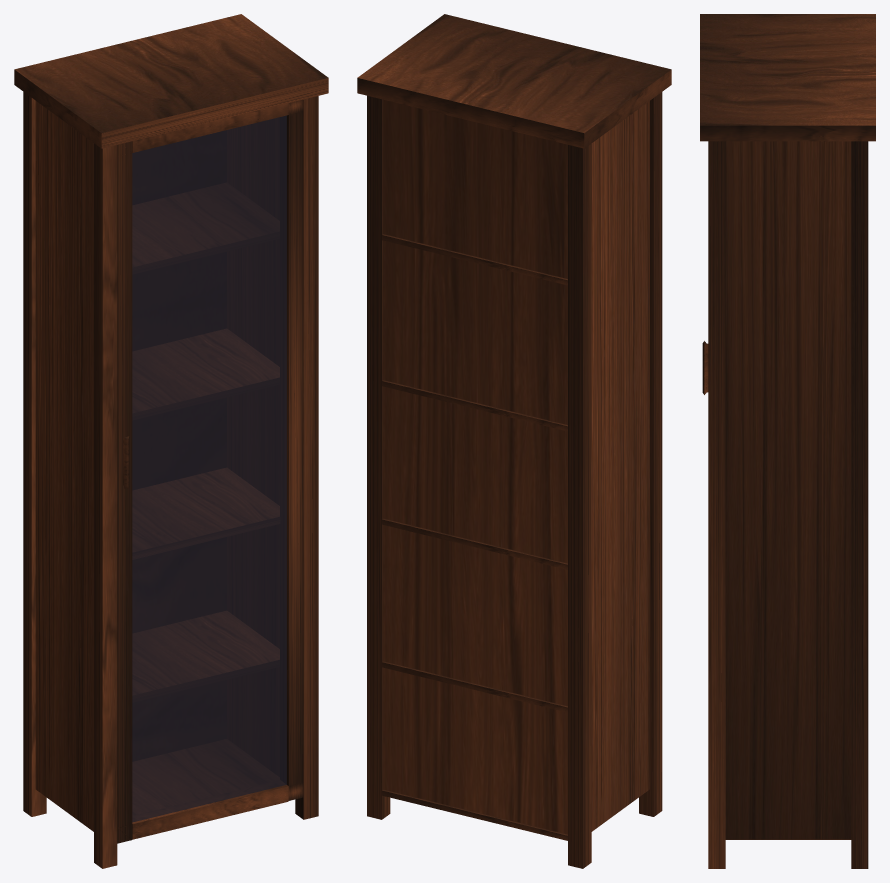
The model's file is norland.obj.
The picture shows the model from 3 angles, left to right: view 1: azimuth 30°, elevation 25°; view 2: azimuth 150°, elevation 25°; view 3: azimuth 270°, elevation 25°; orthographic projection.
Visible parts, largest first — view 1: Plane, Cube.004, Cube, Cube.003, Cube.008, Cube.005, Cube.015_Cube.017, Cube.007, Cube.013_Cube.014, Cube.002, Cube.010_Cube.011, Cube.006_Cube.010 (+5 smaller); view 2: Cube, Cube.004, Cube.003, Cube.002, Cube.001, Cube.005, Cube.021_Cube.020, Cube.018_Cube.006, Cube.017_Cube.022, Cube.020_Cube.019, Cube.019_Cube.015; view 3: Cube.008, Cube.003, Cube.007, Cube.001.
Part boxes in pixels (bbox=[...]): Plane: bbox=[132, 115, 286, 822]; Cube.004: bbox=[35, 101, 93, 831]; Cube: bbox=[132, 130, 226, 761]; Cube.003: bbox=[14, 14, 328, 148]; Cube.008: bbox=[227, 117, 279, 776]; Cube.005: bbox=[94, 143, 117, 868]; Cube.015_Cube.017: bbox=[280, 99, 303, 800]; Cube.007: bbox=[295, 96, 318, 819]; Cube.013_Cube.014: bbox=[117, 141, 132, 843]; Cube.002: bbox=[23, 92, 46, 816]; Cube.010_Cube.011: bbox=[132, 468, 279, 559]; Cube.006_Cube.010: bbox=[132, 611, 279, 702]; Cube: bbox=[383, 99, 567, 834]; Cube.004: bbox=[591, 101, 649, 831]; Cube.003: bbox=[357, 14, 671, 148]; Cube.002: bbox=[568, 143, 591, 868]; Cube.001: bbox=[367, 95, 390, 819]; Cube.005: bbox=[639, 92, 662, 816]; Cube.021_Cube.020: bbox=[382, 234, 567, 285]; Cube.018_Cube.006: bbox=[382, 380, 567, 431]; Cube.017_Cube.022: bbox=[382, 789, 567, 840]; Cube.020_Cube.019: bbox=[382, 661, 567, 712]; Cube.019_Cube.015: bbox=[382, 518, 567, 569]; Cube.008: bbox=[725, 141, 851, 839]; Cube.003: bbox=[700, 14, 875, 141]; Cube.007: bbox=[708, 141, 725, 868]; Cube.001: bbox=[851, 141, 868, 868].
Size of the model in its own units: 23 by 71.6 by 15.3.
3 materials, 2 textured.
